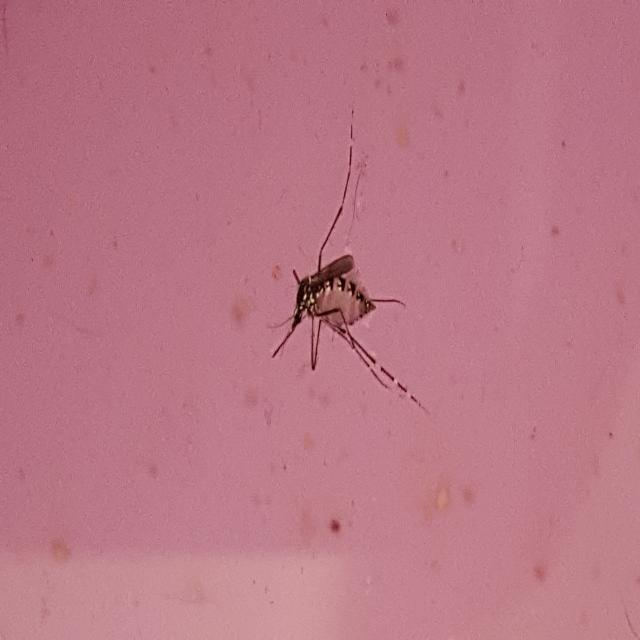albopictus: (256, 107, 431, 409)
